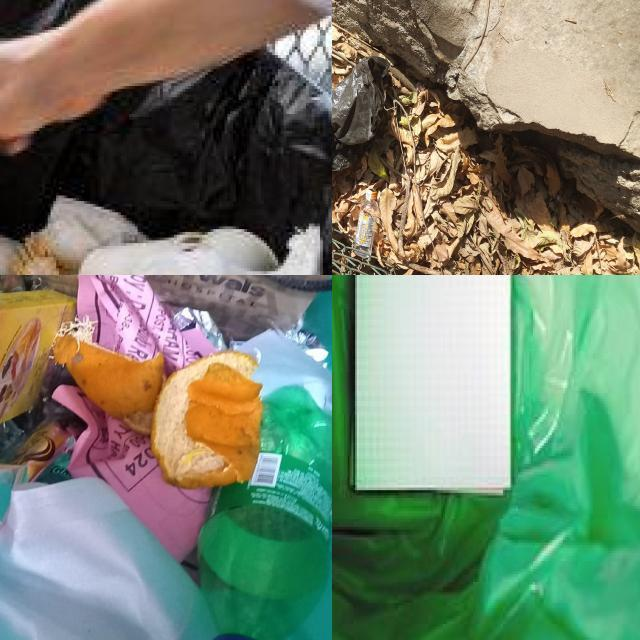Garbage: (0, 275, 332, 640), (332, 22, 640, 275)
Glass_bottle: (353, 190, 379, 258)
Nylog_sting: (264, 275, 332, 292)
Paper: (355, 275, 511, 494)
Plastic: (0, 478, 216, 640), (234, 330, 332, 413)
Plastic_Bag: (332, 57, 389, 169)
Plastic_bottle: (198, 384, 332, 640)
contaminated_waste: (80, 226, 318, 275), (81, 240, 175, 275)
top_view_waste: (332, 275, 640, 640)
